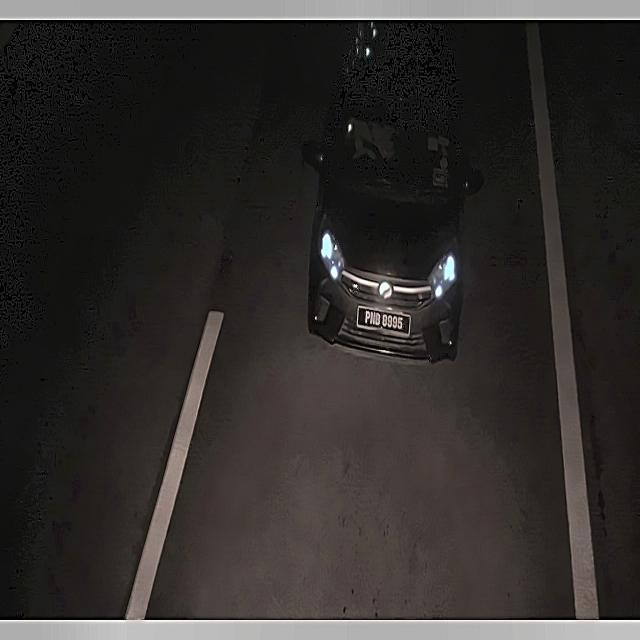car: (354, 301, 420, 344)
